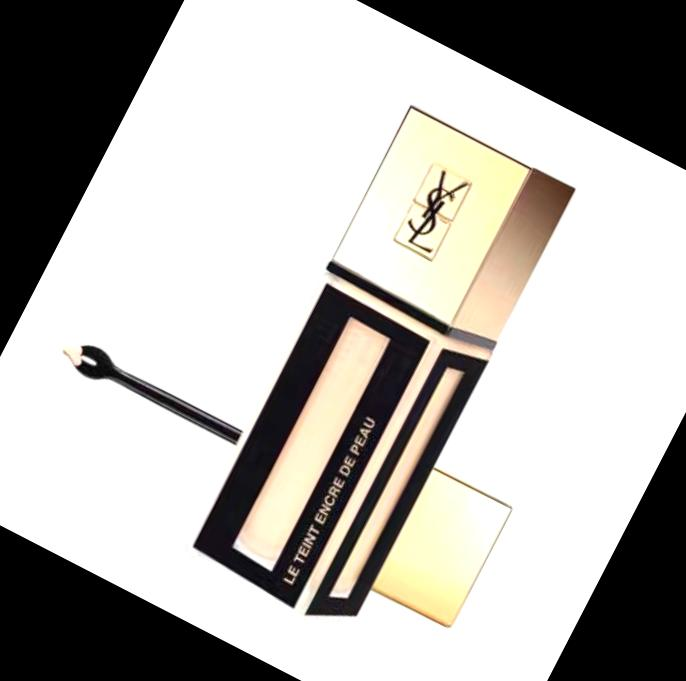cosmetic: (179, 105, 580, 641)
